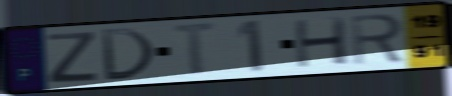1: (235, 17, 266, 75)
D: (98, 27, 158, 83)
H: (291, 15, 351, 70)
R: (348, 12, 407, 68)
T: (170, 20, 223, 79)
Z: (45, 30, 99, 85)
